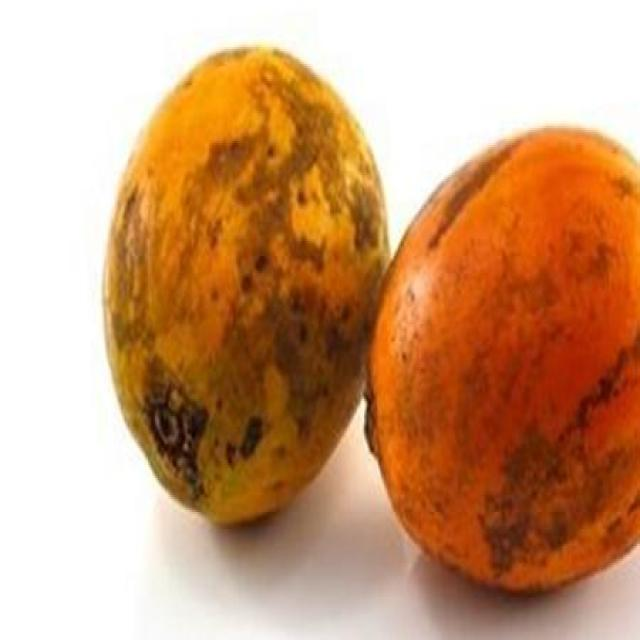good: (101, 47, 393, 531), (364, 128, 639, 597)
